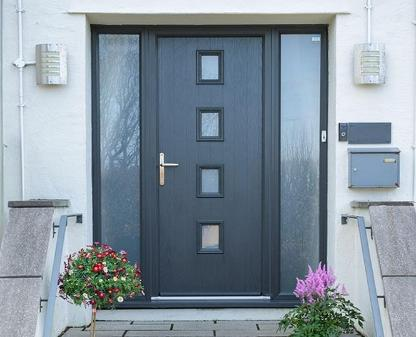door: (85, 15, 330, 308)
